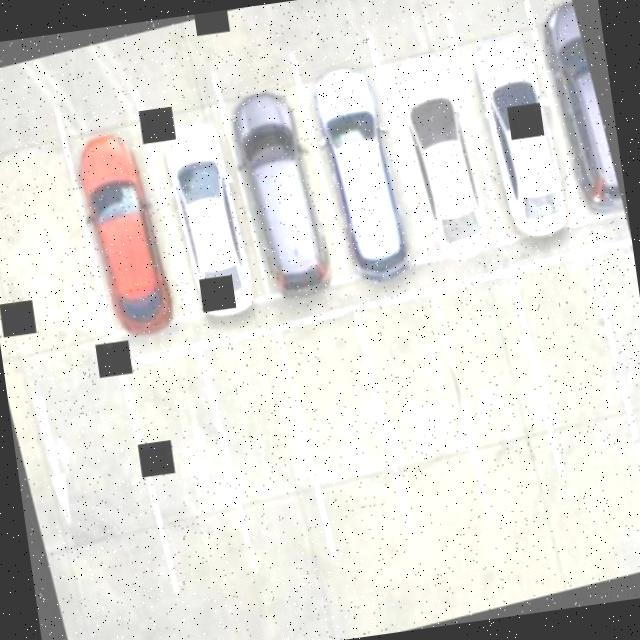empty: (443, 274, 572, 534), (201, 332, 335, 582), (515, 260, 640, 524), (283, 310, 408, 558), (124, 347, 250, 592), (360, 292, 486, 536), (582, 247, 640, 507)
occupied: (296, 38, 428, 298), (380, 21, 508, 288), (60, 114, 197, 360), (456, 23, 586, 266), (222, 70, 348, 314), (148, 100, 274, 336), (513, 0, 625, 227)
